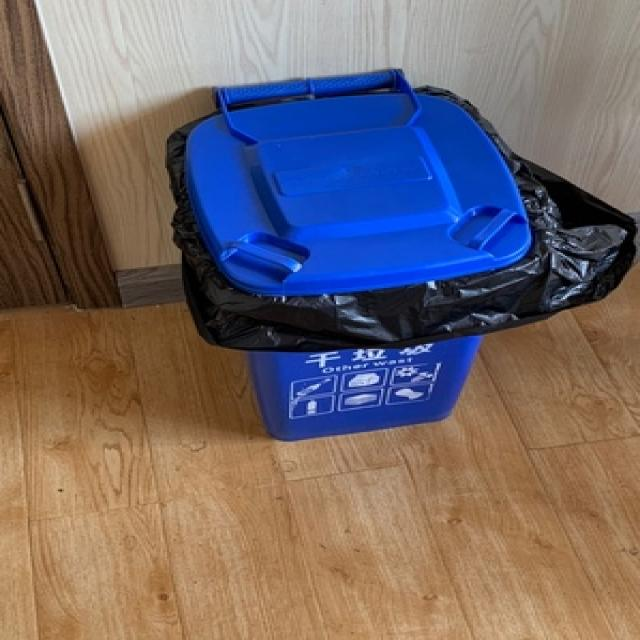ash bin: (178, 68, 533, 438)
